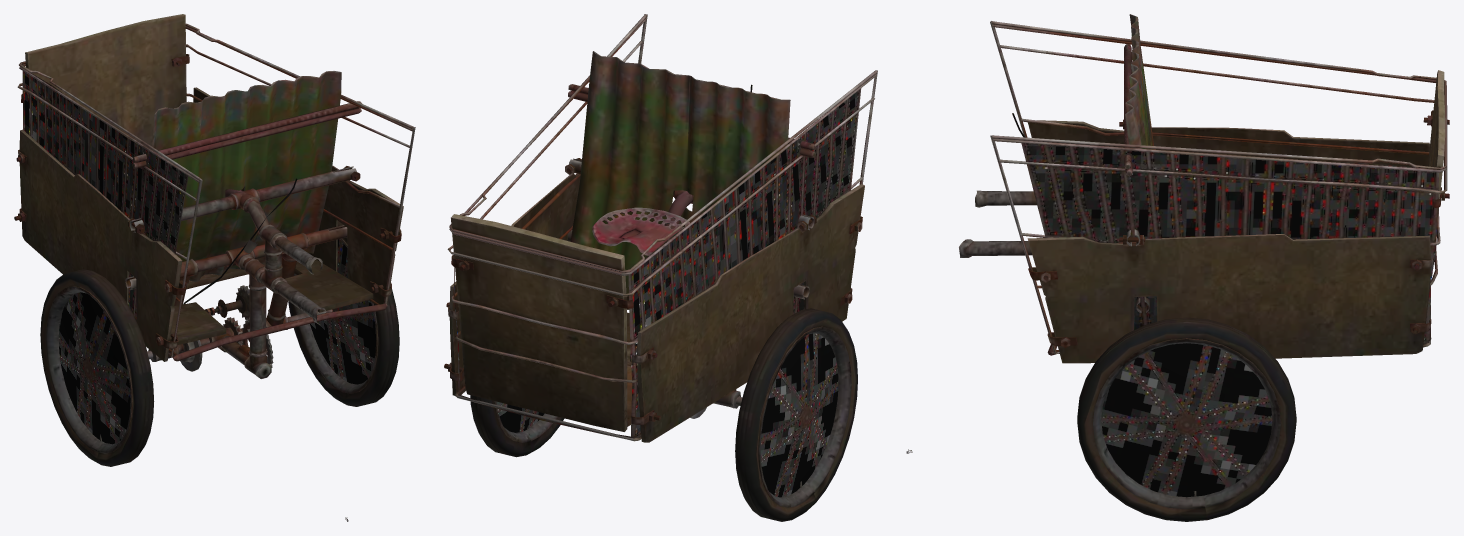
Rendered from pedaltrike.glb.
3 views of the same model, side by side, from view 1: azimuth 30°, elevation 25°; view 2: azimuth 150°, elevation 25°; view 3: azimuth 270°, elevation 25° (orthographic). The views are drawn at different scales.
Parts seen in each view (by area): view 1: trike_body_lod0; view 2: trike_body_lod0; view 3: trike_body_lod0.
Boxes of the visible parts, bbox=[...] form: trike_body_lod0: bbox=[14, 14, 415, 466]; trike_body_lod0: bbox=[444, 14, 877, 521]; trike_body_lod0: bbox=[959, 14, 1449, 521].
Bounding box in the file's own units: 74.28 × 95.35 × 120.
Materials: 4 (4 with a texture image).
